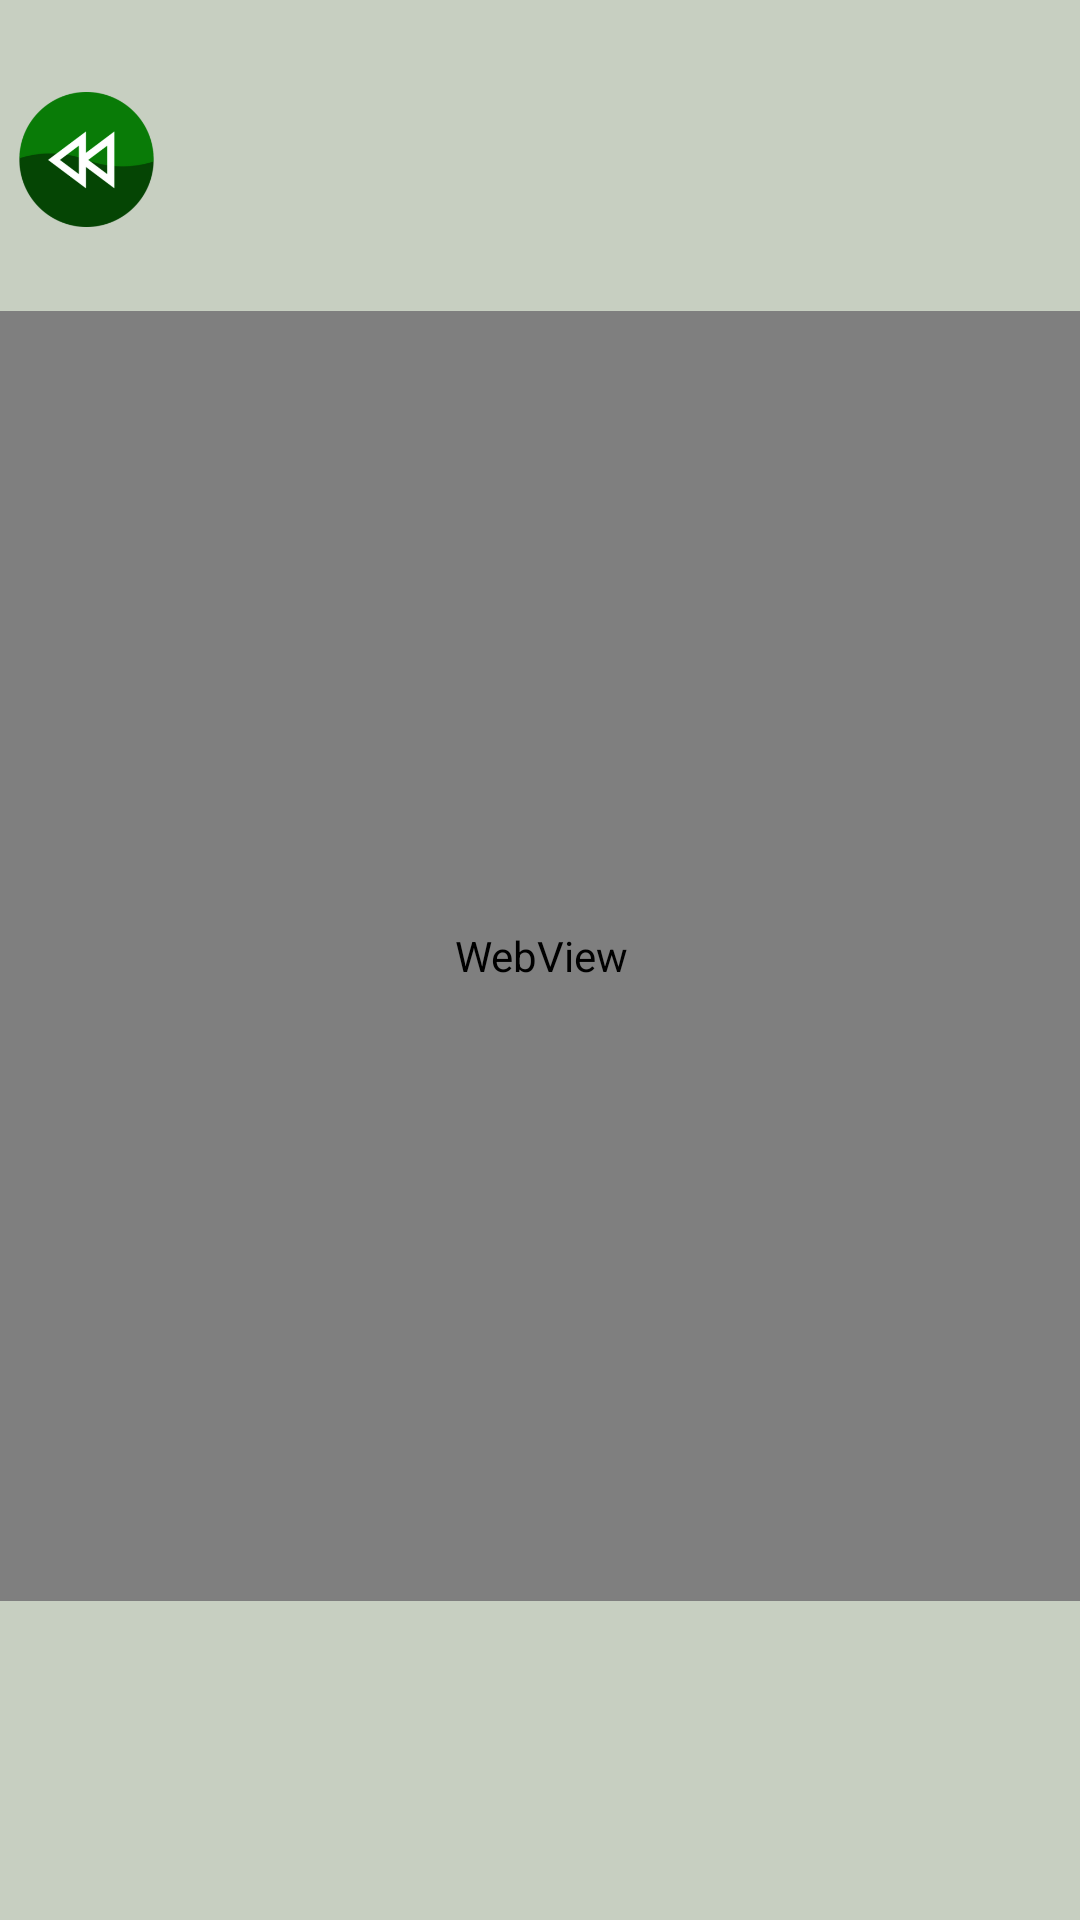

Screen size 1080px×1920px. Icon name, then its box in pixels as [x1,y1,x2,y2]:
Back to home: [19,92,154,227]
